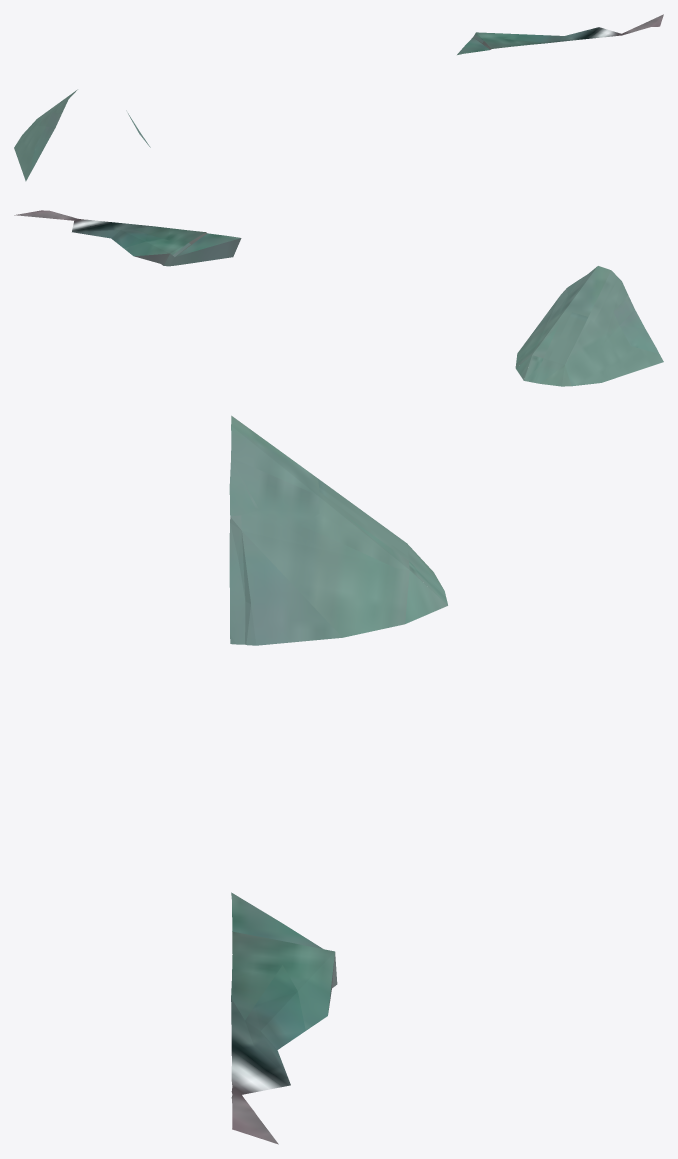
Rendered from Tile_+008_+008_L19_00050.glb.
3 views of the same model, one above another, from view 1: azimuth 30°, elevation 25°; view 2: azimuth 150°, elevation 25°; view 3: azimuth 270°, elevation 25° (orthographic). The views are drawn at different scales.
Visible parts, largest first — view 1: rtc; view 2: rtc; view 3: rtc.
Part boxes in pixels (box(x1,y1,x2,y2)): rtc: box(14, 14, 663, 181); rtc: box(14, 210, 663, 386); rtc: box(229, 415, 447, 1144).
Bounding box in the file's own units: 12.61 × 1.52 × 1.87.
1 material, 1 textured.
